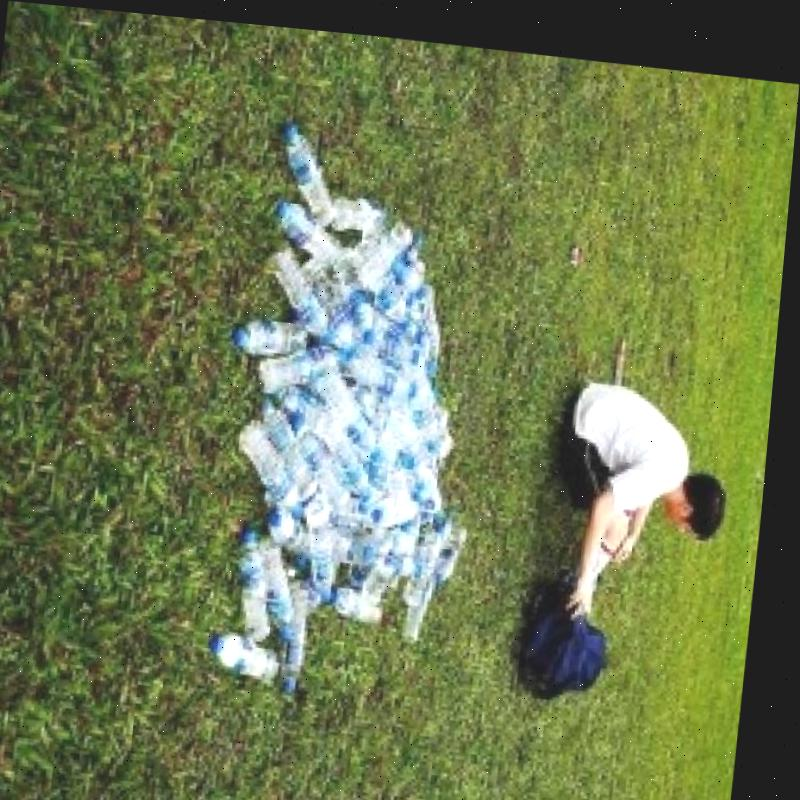botella: (252, 388, 333, 493), (233, 415, 315, 506), (266, 240, 340, 334), (349, 234, 422, 321), (237, 528, 291, 643), (258, 529, 311, 632), (272, 191, 347, 257), (323, 364, 385, 441), (262, 334, 345, 391), (221, 623, 288, 685), (363, 227, 430, 287), (275, 374, 334, 439), (288, 580, 322, 686), (239, 308, 315, 352), (347, 348, 413, 392), (329, 184, 392, 228), (273, 501, 325, 554), (313, 518, 348, 592), (331, 576, 389, 619), (339, 440, 384, 494), (414, 561, 445, 635), (345, 273, 381, 336), (416, 519, 442, 602), (325, 294, 360, 345), (401, 430, 442, 472), (383, 324, 433, 357), (425, 476, 457, 508), (402, 317, 439, 336)
